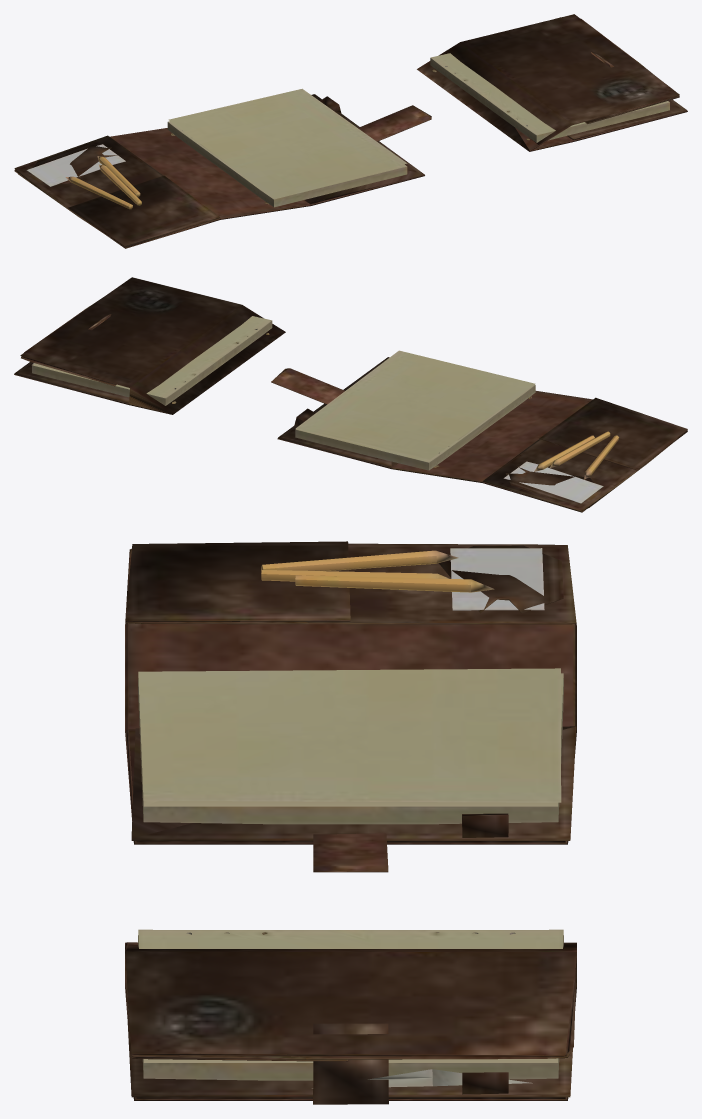
The model's file is binder_notebook.glb.
3 views of the same model, one above another, from view 1: azimuth 30°, elevation 25°; view 2: azimuth 150°, elevation 25°; view 3: azimuth 270°, elevation 25° (orthographic). The views are drawn at different scales.
Visible parts, largest first — view 1: binder_notebook, binder_notebook_closed; view 2: binder_notebook, binder_notebook_closed; view 3: binder_notebook, binder_notebook_closed.
Boxes of the visible parts, x1,y1,x2,y2 form: binder_notebook: (14,88,431,248); binder_notebook_closed: (417,14,687,151); binder_notebook: (271,350,687,512); binder_notebook_closed: (14,277,285,414); binder_notebook: (125,541,576,872); binder_notebook_closed: (125,929,576,1104).
Size of the model in its own units: 0.5816 by 0.023 by 0.1991.
Materials: 1 (1 with a texture image).
